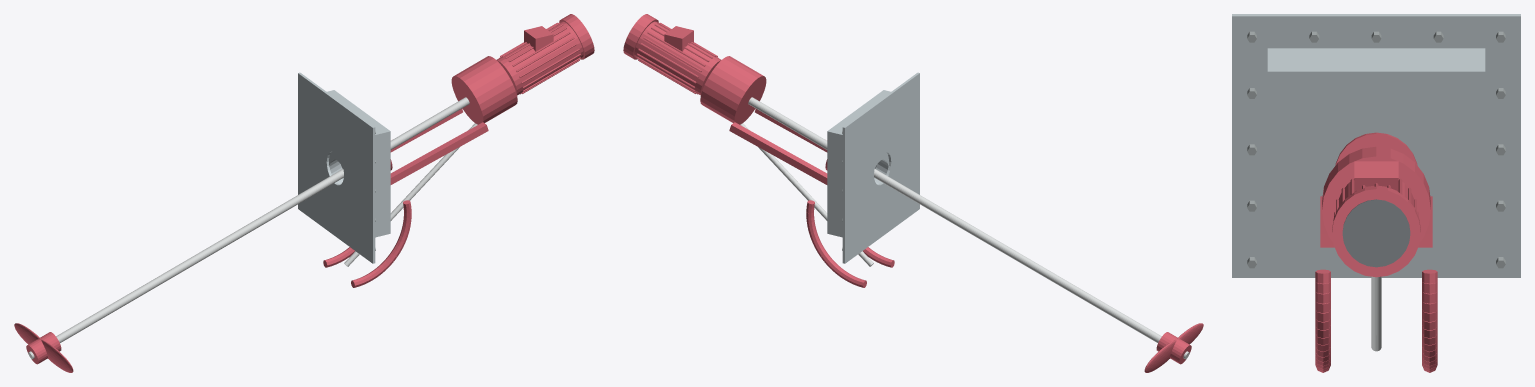
The model's file is mixer-wall.glb.
3 renders of one model, left to right at view 1: azimuth 30°, elevation 25°; view 2: azimuth 150°, elevation 25°; view 3: azimuth 270°, elevation 25°, orthographic. The views are drawn at different scales.
Parts seen in each view (by area): view 1: TESIS_KARISTIRICI_D1_PERDE_3_ANKRAJ_PLAKASI, TESIS_KARISTIRICI_D1_PERDE_3_MOTOR_REDÜKTÖR_KIRMIZI, TESIS_KARISTIRICI_D1_PERDE_3_IC_UZUN_SAFT, TESIS_KARISTIRICI_D1_PERDE_3_AYAR_KOLLARI, TESIS_KARISTIRICI_D1_PERDE_3_SALMASTRA_KUTUSU, TESIS_KARISTIRICI_D1_PERDE_3_IC_PERVANE_1, TESIS_KARISTIRICI_D1_PERDE_3_AYAR_GERGI_MILI; view 2: TESIS_KARISTIRICI_D1_PERDE_3_ANKRAJ_PLAKASI, TESIS_KARISTIRICI_D1_PERDE_3_MOTOR_REDÜKTÖR_KIRMIZI, TESIS_KARISTIRICI_D1_PERDE_3_IC_UZUN_SAFT, TESIS_KARISTIRICI_D1_PERDE_3_AYAR_KOLLARI, TESIS_KARISTIRICI_D1_PERDE_3_SALMASTRA_KUTUSU, TESIS_KARISTIRICI_D1_PERDE_3_IC_PERVANE_1, TESIS_KARISTIRICI_D1_PERDE_3_AYAR_GERGI_MILI; view 3: TESIS_KARISTIRICI_D1_PERDE_3_SALMASTRA_KUTUSU, TESIS_KARISTIRICI_D1_PERDE_3_ANKRAJ_PLAKASI, TESIS_KARISTIRICI_D1_PERDE_3_MOTOR_REDÜKTÖR_KIRMIZI, TESIS_KARISTIRICI_D1_PERDE_3_AYAR_KOLLARI, TESIS_KARISTIRICI_D1_PERDE_3_MOTOR_FAN_IZGARASI, TESIS_KARISTIRICI_D1_PERDE_3_ANKRAJ_SOMUNLARI, TESIS_KARISTIRICI_D1_PERDE_3_SALMASTRA_FLANSI, TESIS_KARISTIRICI_D1_PERDE_3_AYAR_GERGI_MILI.
Boxes of the visible parts, x1,y1,x2,y2 form: TESIS_KARISTIRICI_D1_PERDE_3_ANKRAJ_PLAKASI: (298, 72, 375, 263); TESIS_KARISTIRICI_D1_PERDE_3_MOTOR_REDÜKTÖR_KIRMIZI: (451, 14, 594, 124); TESIS_KARISTIRICI_D1_PERDE_3_IC_UZUN_SAFT: (28, 97, 469, 359); TESIS_KARISTIRICI_D1_PERDE_3_AYAR_KOLLARI: (323, 108, 488, 287); TESIS_KARISTIRICI_D1_PERDE_3_SALMASTRA_KUTUSU: (327, 90, 390, 237); TESIS_KARISTIRICI_D1_PERDE_3_IC_PERVANE_1: (14, 323, 73, 372); TESIS_KARISTIRICI_D1_PERDE_3_AYAR_GERGI_MILI: (344, 123, 477, 266); TESIS_KARISTIRICI_D1_PERDE_3_ANKRAJ_PLAKASI: (842, 72, 919, 263); TESIS_KARISTIRICI_D1_PERDE_3_MOTOR_REDÜKTÖR_KIRMIZI: (623, 14, 766, 124); TESIS_KARISTIRICI_D1_PERDE_3_IC_UZUN_SAFT: (748, 97, 1189, 359); TESIS_KARISTIRICI_D1_PERDE_3_AYAR_KOLLARI: (729, 108, 894, 287); TESIS_KARISTIRICI_D1_PERDE_3_SALMASTRA_KUTUSU: (827, 90, 890, 237); TESIS_KARISTIRICI_D1_PERDE_3_IC_PERVANE_1: (1144, 323, 1203, 372); TESIS_KARISTIRICI_D1_PERDE_3_AYAR_GERGI_MILI: (740, 123, 873, 266); TESIS_KARISTIRICI_D1_PERDE_3_SALMASTRA_KUTUSU: (1267, 48, 1485, 268); TESIS_KARISTIRICI_D1_PERDE_3_ANKRAJ_PLAKASI: (1232, 14, 1520, 277); TESIS_KARISTIRICI_D1_PERDE_3_MOTOR_REDÜKTÖR_KIRMIZI: (1322, 146, 1430, 277); TESIS_KARISTIRICI_D1_PERDE_3_AYAR_KOLLARI: (1315, 196, 1437, 372); TESIS_KARISTIRICI_D1_PERDE_3_MOTOR_FAN_IZGARASI: (1342, 199, 1410, 267); TESIS_KARISTIRICI_D1_PERDE_3_ANKRAJ_SOMUNLARI: (1247, 31, 1505, 268); TESIS_KARISTIRICI_D1_PERDE_3_SALMASTRA_FLANSI: (1335, 132, 1417, 165); TESIS_KARISTIRICI_D1_PERDE_3_AYAR_GERGI_MILI: (1371, 276, 1381, 351).
Size of the model in its own units: 5.59 by 2.07 by 1.3.
